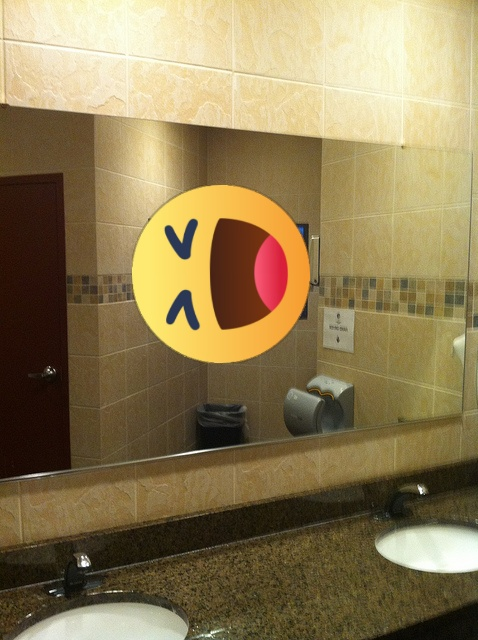haha: (132, 185, 310, 363)
